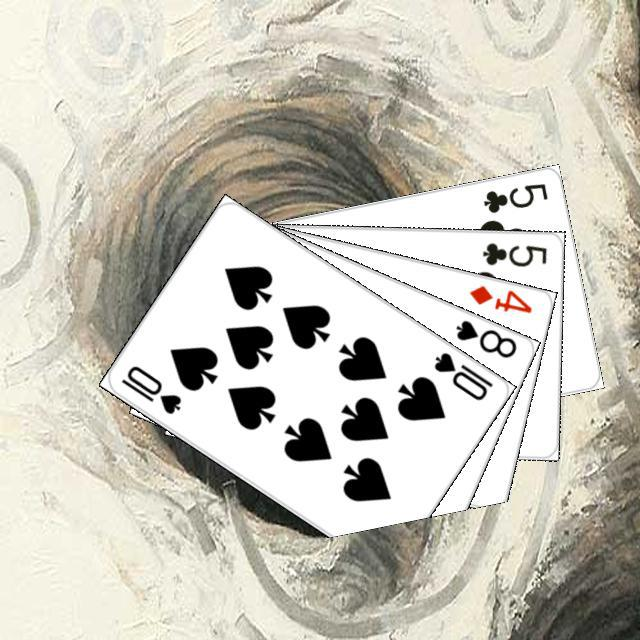10s: (116, 360, 184, 416), (429, 347, 495, 403)
4d: (464, 280, 534, 315)
5c: (478, 178, 550, 215), (477, 238, 549, 268)
8s: (451, 314, 519, 360)
